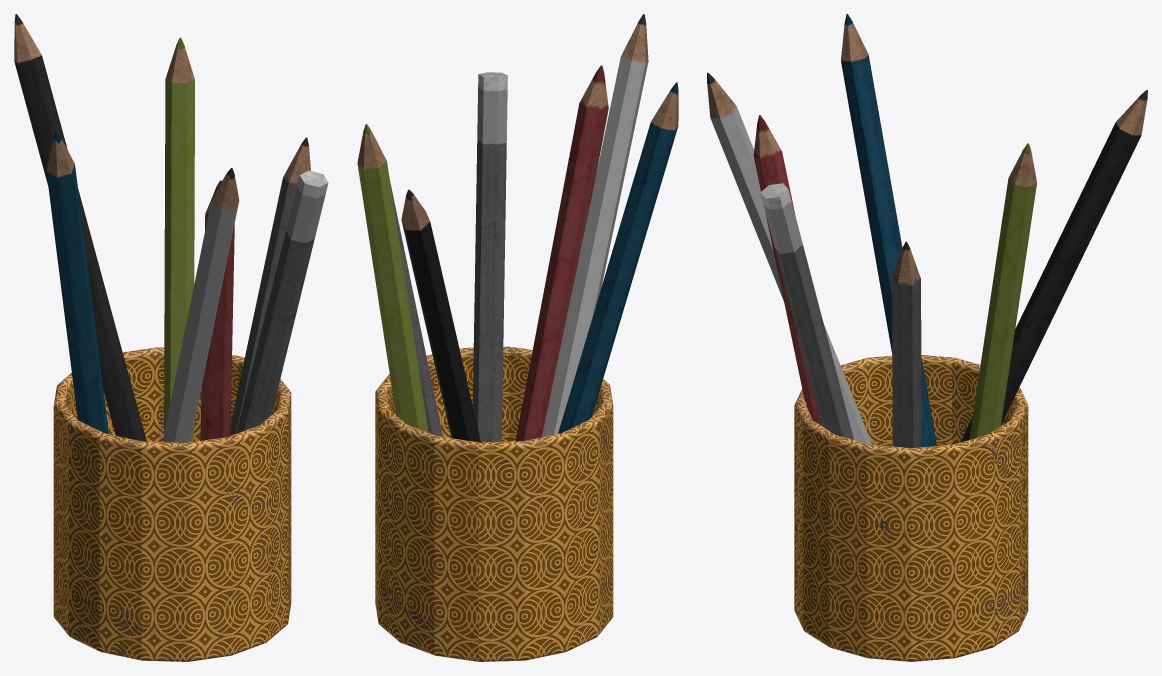
File: Penholder.fbx
3 views of the same model, side by side, from view 1: azimuth 30°, elevation 25°; view 2: azimuth 150°, elevation 25°; view 3: azimuth 270°, elevation 25° (orthographic). The views are drawn at different scales.
Parts seen in each view (by area): view 1: Penholder; view 2: Penholder; view 3: Penholder.
Boxes of the visible parts, box(x1,y1,x2,y2) form: Penholder: box(14, 14, 328, 661); Penholder: box(357, 14, 678, 661); Penholder: box(707, 14, 1147, 661).
Size of the model in its own units: 1.52 by 2.74 by 2.07.
Materials: 3 (3 with a texture image).
